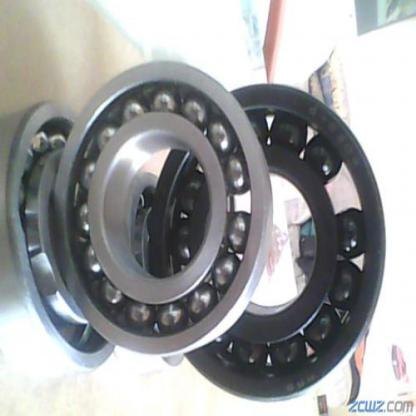FOD: (144, 77, 390, 409), (48, 57, 271, 360), (0, 92, 120, 375)
